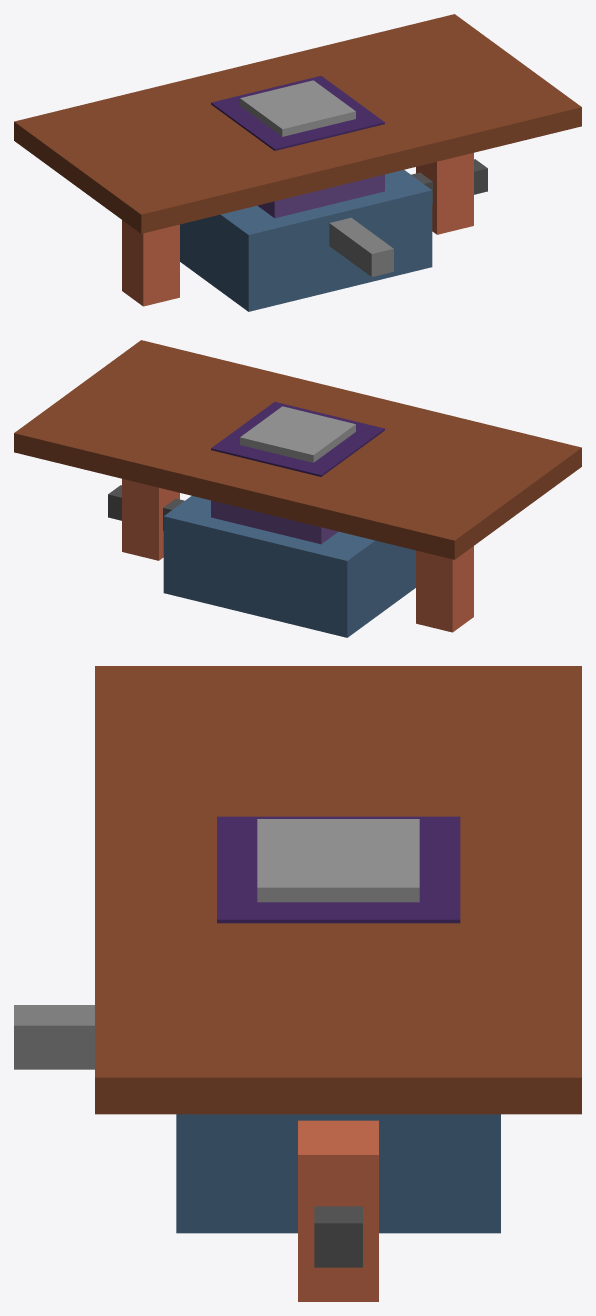
Rendered from NestedAssembly.glb.
The picture shows the model from 3 angles, top to bottom: view 1: azimuth 30°, elevation 25°; view 2: azimuth 150°, elevation 25°; view 3: azimuth 270°, elevation 25°; orthographic projection. The views are drawn at different scales.
Parts seen in each view (by area): view 1: Table_geo, Housing_geo, Leg1_geo, Gear_geo, Cap_geo, Leg2_geo, Axle_geo, Body_geo, Shaft_geo; view 2: Table_geo, Housing_geo, Leg1_geo, Gear_geo, Cap_geo, Leg2_geo, Body_geo, Shaft_geo; view 3: Table_geo, Housing_geo, Gear_geo, Cap_geo, Leg2_geo, Axle_geo, Shaft_geo.
Part boxes in pixels (bbox=[...]): Table_geo: bbox=[14, 14, 581, 233]; Housing_geo: bbox=[180, 170, 432, 311]; Leg1_geo: bbox=[122, 220, 179, 306]; Gear_geo: bbox=[240, 80, 355, 136]; Cap_geo: bbox=[211, 76, 384, 150]; Leg2_geo: bbox=[416, 153, 473, 234]; Axle_geo: bbox=[329, 217, 393, 276]; Body_geo: bbox=[257, 174, 384, 218]; Shaft_geo: bbox=[411, 159, 487, 204]; Table_geo: bbox=[14, 340, 581, 559]; Housing_geo: bbox=[163, 496, 415, 637]; Leg1_geo: bbox=[416, 546, 473, 632]; Gear_geo: bbox=[240, 406, 355, 462]; Cap_geo: bbox=[211, 402, 384, 476]; Leg2_geo: bbox=[122, 479, 179, 560]; Body_geo: bbox=[211, 500, 338, 544]; Shaft_geo: bbox=[108, 485, 184, 530]; Table_geo: bbox=[95, 666, 581, 1114]; Housing_geo: bbox=[176, 1114, 500, 1233]; Gear_geo: bbox=[257, 819, 419, 902]; Cap_geo: bbox=[217, 816, 460, 923]; Leg2_geo: bbox=[298, 1120, 378, 1301]; Axle_geo: bbox=[14, 1005, 94, 1069]; Shaft_geo: bbox=[314, 1206, 362, 1267].
Size of the model in its own units: 1.2 by 0.4 by 0.7.
